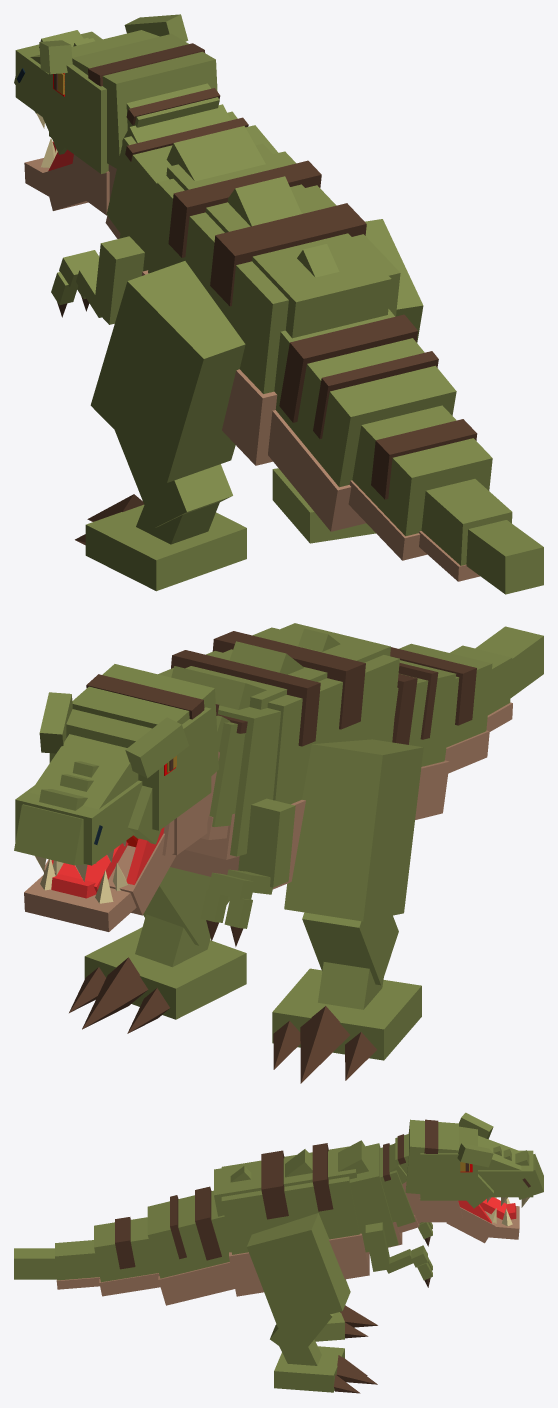
Rendered from trex.obj.
3 renders of one model, top to bottom at view 1: azimuth 30°, elevation 25°; view 2: azimuth 150°, elevation 25°; view 3: azimuth 270°, elevation 25°, orthographic. The views are drawn at different scales.
Visible parts, largest first — view 1: torso, leg_L, tail01, head, tail02, leg_L_Hand, neck1, tail03, tail04, leg_L_lower, mouth, neck2 (+5 smaller); view 2: head, torso, leg_L, leg_R_Hand, mouth, leg_L_Hand, tail01, tail02, neck2, leg_L_lower, arm_L, neck1 (+7 smaller); view 3: torso, head, leg_R, tail01, tail02, mouth, leg_R_Hand, neck1, neck2, tail03, leg_R_lower, tail04 (+5 smaller).
Part boxes in pixels (left/top/right/bottom): torso: left=141, top=126, right=400, bottom=465; leg_L: left=90, top=261, right=245, bottom=482; tail01: left=268, top=309, right=456, bottom=531; head: left=14, top=14, right=217, bottom=173; tail02: left=348, top=405, right=492, bottom=560; leg_L_Hand: left=75, top=494, right=246, bottom=591; neck1: left=105, top=83, right=248, bottom=238; tail03: left=419, top=479, right=512, bottom=581; tail04: left=466, top=520, right=543, bottom=594; leg_L_lower: left=114, top=430, right=232, bottom=527; mouth: left=24, top=138, right=109, bottom=215; neck2: left=119, top=125, right=278, bottom=271; head: left=14, top=664, right=218, bottom=881; torso: left=158, top=623, right=399, bottom=889; leg_L: left=284, top=739, right=423, bottom=921; leg_R_Hand: left=69, top=927, right=246, bottom=1033; mouth: left=24, top=796, right=207, bottom=931; leg_L_Hand: left=272, top=968, right=421, bottom=1083; tail01: left=392, top=660, right=456, bottom=819; tail02: left=390, top=643, right=492, bottom=773; neck2: left=218, top=705, right=280, bottom=856; leg_L_lower: left=302, top=912, right=398, bottom=985; arm_L: left=238, top=798, right=295, bottom=887; neck1: left=201, top=704, right=247, bottom=839; torso: left=214, top=1140, right=402, bottom=1296; head: left=405, top=1112, right=543, bottom=1208; leg_R: left=247, top=1213, right=350, bottom=1327; tail01: left=147, top=1186, right=234, bottom=1305; tail02: left=94, top=1217, right=160, bottom=1296; mouth: left=419, top=1197, right=519, bottom=1243; leg_R_Hand: left=274, top=1346, right=377, bottom=1393; neck1: left=380, top=1134, right=420, bottom=1233; neck2: left=349, top=1143, right=398, bottom=1252; tail03: left=55, top=1240, right=99, bottom=1289; leg_R_lower: left=270, top=1313, right=333, bottom=1359; tail04: left=14, top=1248, right=56, bottom=1279.
Bounding box in the file's own units: 9.26 × 12.09 × 25.8.
